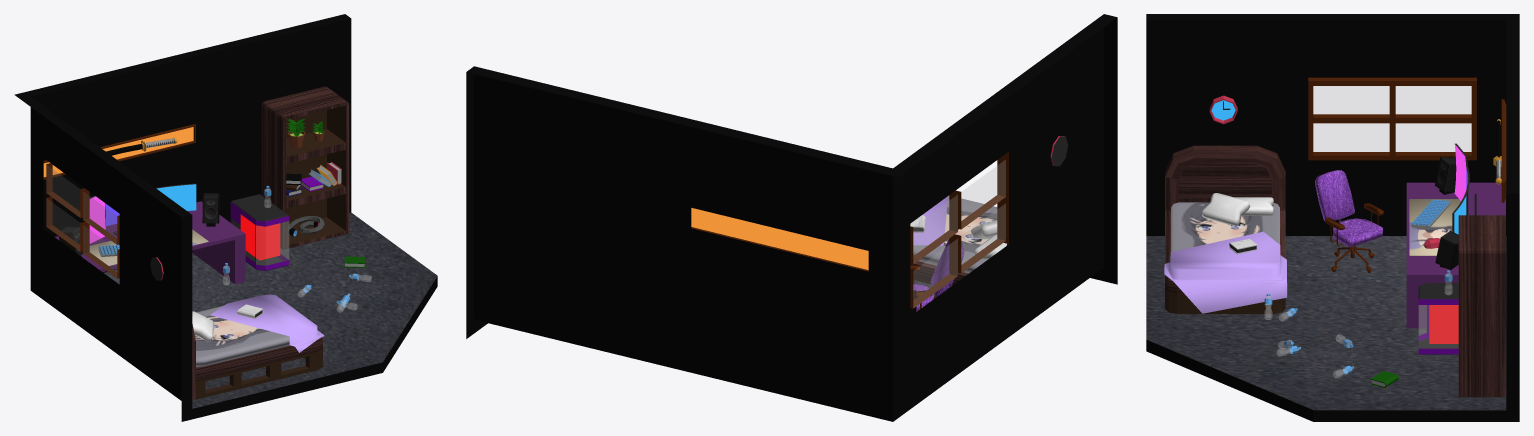
The model's file is final_work_desk.glb.
3 renders of one model, left to right at view 1: azimuth 30°, elevation 25°; view 2: azimuth 150°, elevation 25°; view 3: azimuth 270°, elevation 25°, orthographic. The views are drawn at different scales.
Visible parts, largest first — view 1: 1Room_7, Bookshelf_36, Bed_24, Case1_10, Table_6, BedU_25, blanket_26, Monitors_4, CaseLight_11, LowSpeaker_12, Torus_39, Pillow.001_28 (+3 smaller); view 2: 1Room_7, BedU_25, blanket_26, LowPillow.001_16; view 3: 1Room_7, Bookshelf_36, Bed_24, blanket_26, Table_6, BedU_25, Case1_10, MousePad_8, LowPillow.001_16, CaseLight_11, Pillow.001_28, LowSeat.001_15 (+6 smaller).
Boxes of the visible parts, box(x1,y1,x2,y2) form: 1Room_7: box(14, 14, 437, 421); Bookshelf_36: box(261, 86, 349, 249); Bed_24: box(192, 324, 322, 400); Case1_10: box(230, 194, 289, 270); Table_6: box(55, 201, 245, 284); BedU_25: box(195, 305, 289, 367); blanket_26: box(210, 294, 324, 352); Monitors_4: box(89, 183, 196, 243); CaseLight_11: box(240, 214, 280, 260); LowSpeaker_12: box(202, 193, 219, 226); Torus_39: box(287, 216, 324, 236); Pillow.001_28: box(192, 311, 214, 341); 1Room_7: box(466, 14, 1117, 421); BedU_25: box(913, 195, 997, 273); blanket_26: box(913, 196, 948, 245); LowPillow.001_16: box(930, 239, 964, 296); 1Room_7: box(1146, 14, 1519, 421); Bookshelf_36: box(1458, 215, 1505, 397); Bed_24: box(1165, 145, 1285, 313); blanket_26: box(1164, 231, 1287, 313); Table_6: box(1406, 182, 1505, 328); BedU_25: box(1171, 202, 1279, 251); Case1_10: box(1418, 283, 1458, 354); MousePad_8: box(1409, 199, 1460, 255); LowPillow.001_16: box(1315, 170, 1354, 220); CaseLight_11: box(1429, 305, 1458, 343); Pillow.001_28: box(1201, 193, 1250, 225); LowSeat.001_15: box(1333, 218, 1382, 246).
Size of the model in its own units: 30.26 by 17.87 by 26.53.
36 materials, 10 textured.
